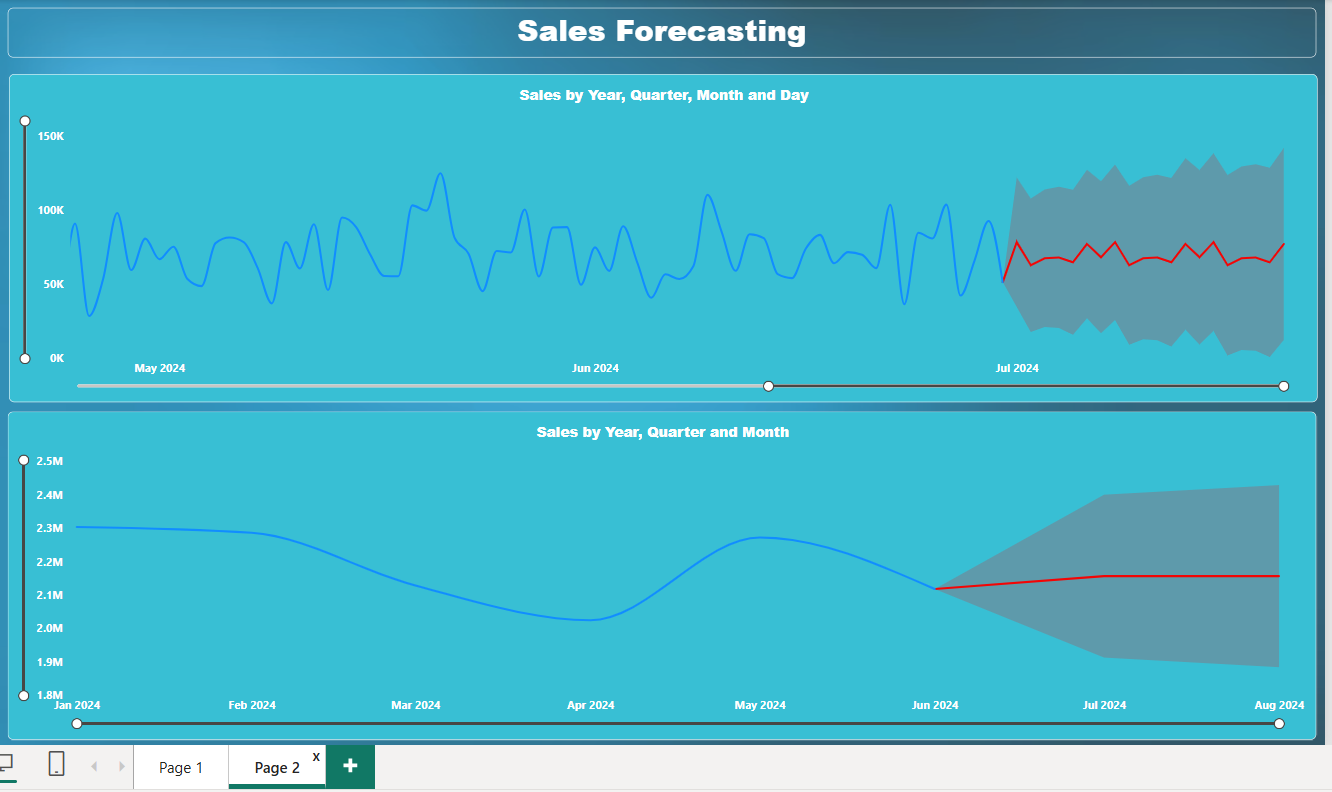

What the dashboard file says about the page in this screenshot:
{"tool":"powerbi","page":{"name":"Page 2","canvas":[1920,1080],"ordinal":1},"visuals":[{"type":"lineChart","title":" Sales by Year, Quarter, Month and Day","fields":{"Category":["Inventory Data.Date.Variation.Date Hierarchy.Year","Inventory Data.Date.Variation.Date Hierarchy.Quarter","Inventory Data.Date.Variation.Date Hierarchy.Month","Inventory Data.Date.Variation.Date Hierarchy.Day"],"Y":["Sum(Inventory Data.SalesValue)"]},"box":[14.5,108.6,1894.7,475],"z":0},{"type":"lineChart","title":" Sales by Year, Quarter and Month","fields":{"Category":["Inventory Data.Date.Variation.Date Hierarchy.Year","Inventory Data.Date.Variation.Date Hierarchy.Quarter","Inventory Data.Date.Variation.Date Hierarchy.Month"],"Y":["Sum(Inventory Data.SalesValue)"]},"box":[12.7,597.2,1894.7,475],"z":1000},{"type":"textbox","box":[12.7,12.7,1894.7,72.4],"z":2000}]}

Visuals, with their boxes in screenshot pixels (x1, y1, x2, y2):
" Sales by Year, Quarter, Month and Day" lineChart: (24,81,1320,406)
" Sales by Year, Quarter and Month" lineChart: (23,416,1319,740)
textbox: (23,16,1319,65)
